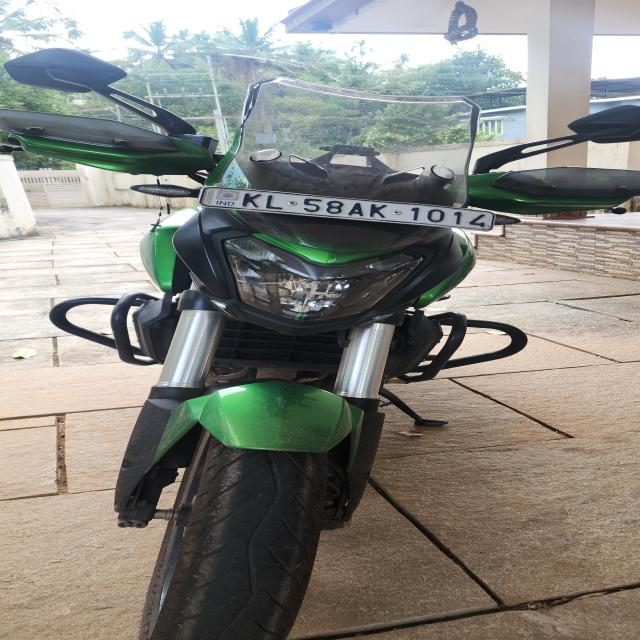headlight: (222, 233, 426, 323)
